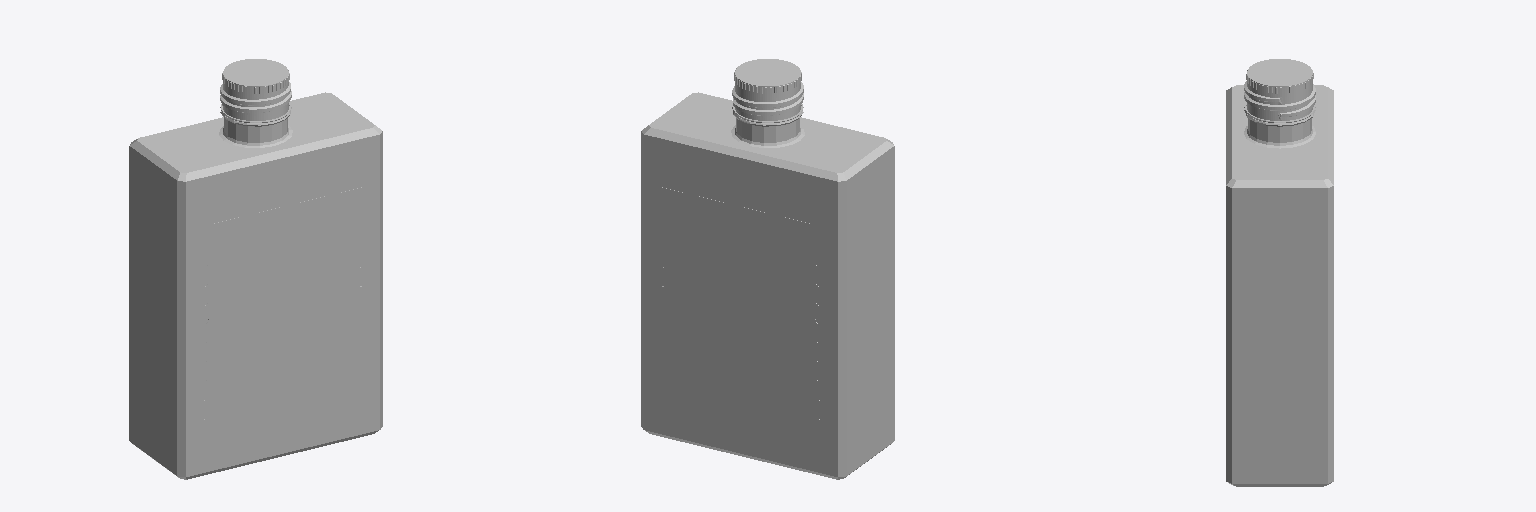
The model's file is liquor-bottle-017.obj.
3 renders of one model, left to right at view 1: azimuth 30°, elevation 25°; view 2: azimuth 150°, elevation 25°; view 3: azimuth 270°, elevation 25°, orthographic.
Visible parts, largest first — view 1: bottle, label, lid; view 2: bottle, label, lid; view 3: bottle, lid.
Part boxes in pixels (bbox=[...]): bottle: bbox=[129, 92, 382, 479]; label: bbox=[204, 187, 361, 452]; lid: bbox=[220, 59, 291, 122]; bottle: bbox=[641, 92, 894, 479]; label: bbox=[662, 187, 819, 452]; lid: bbox=[732, 59, 803, 122]; bottle: bbox=[1226, 85, 1333, 486]; lid: bbox=[1244, 59, 1315, 122].
Size of the model in its own units: 0.07 by 0.1196 by 0.0322.